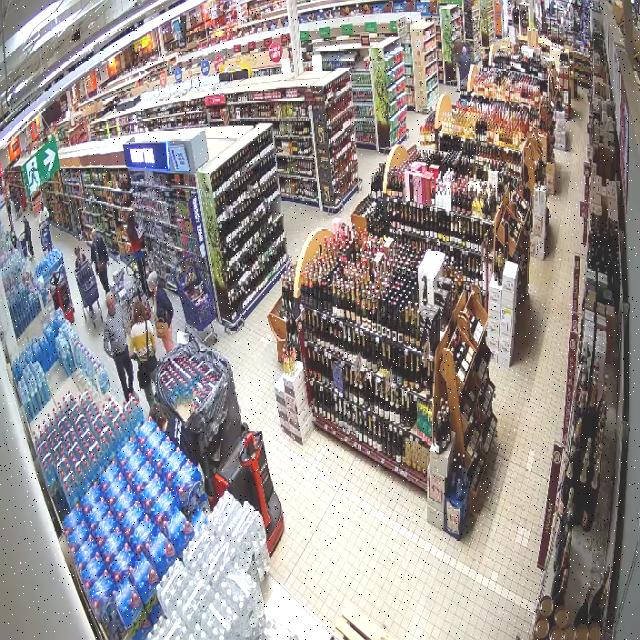bags: (138, 321, 158, 375), (157, 309, 169, 338)
person: (103, 291, 138, 400), (129, 300, 156, 404), (147, 271, 174, 351)
